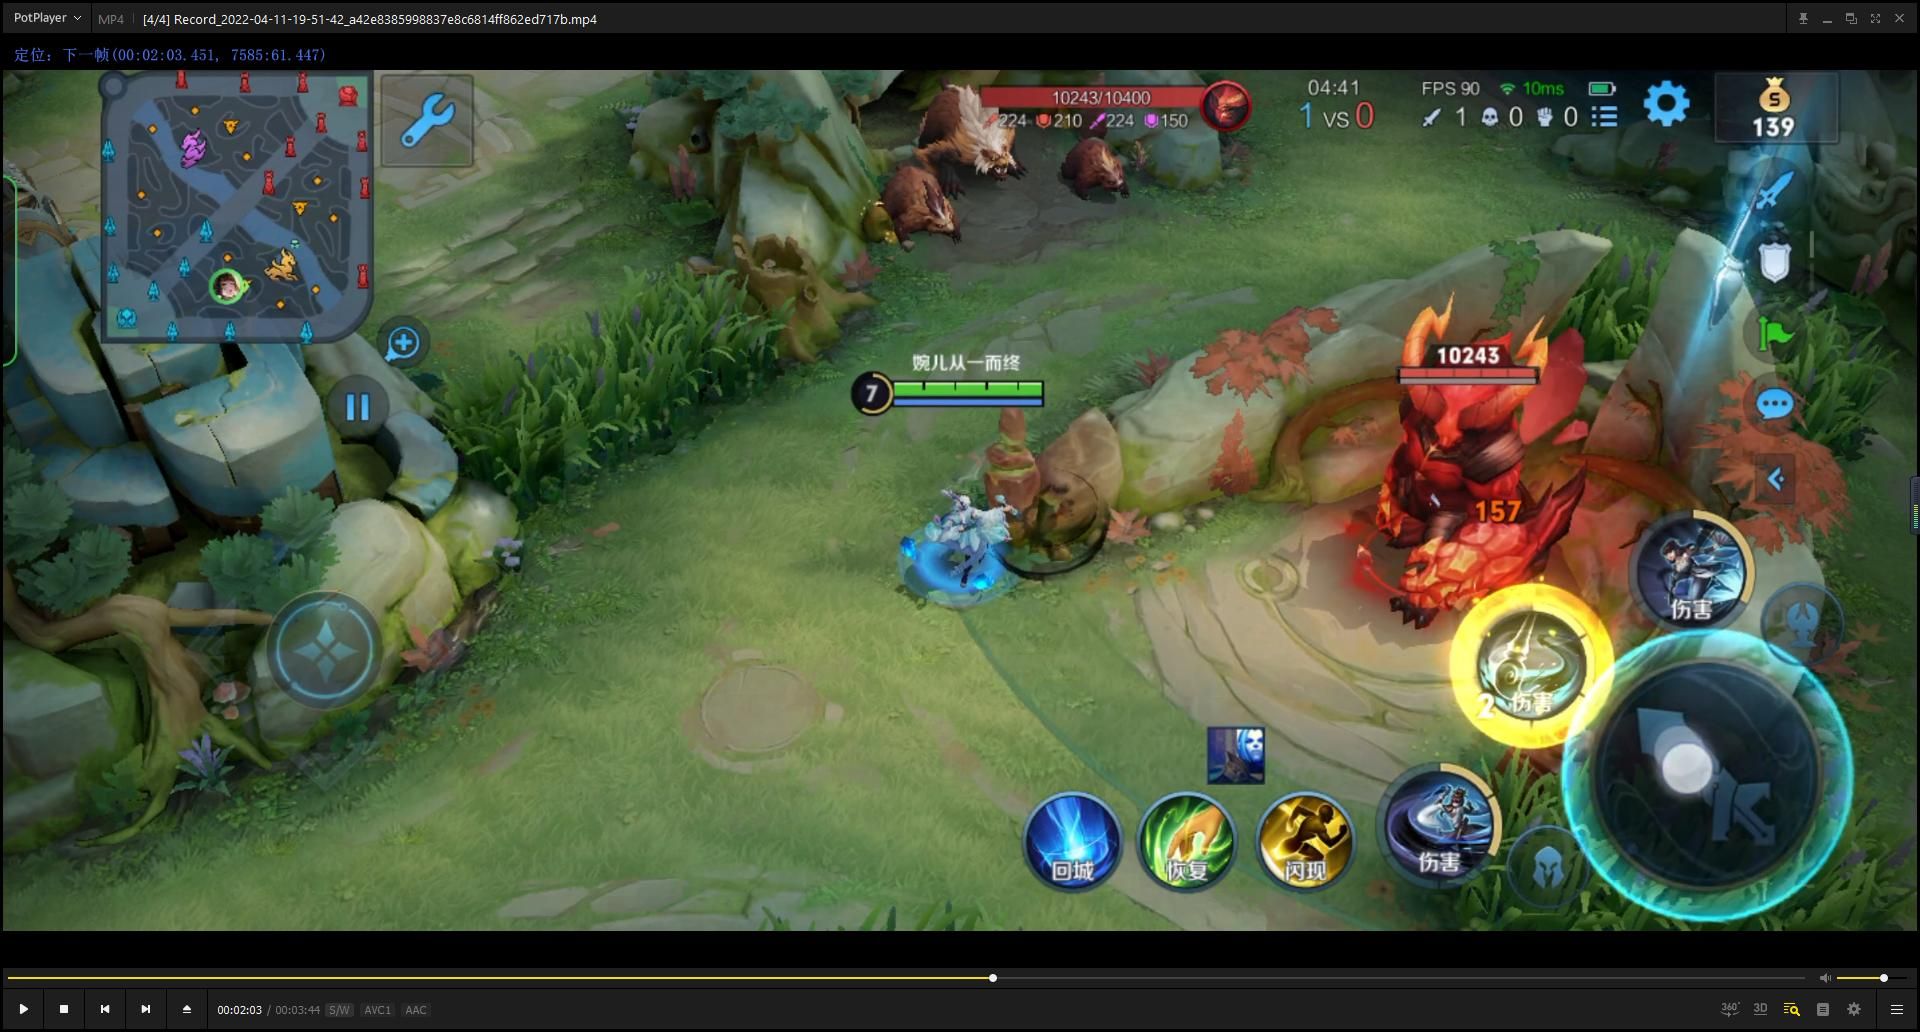Buff: (1327, 302, 1579, 623)
Hero: (881, 473, 1050, 611)
Pig: (867, 133, 958, 271), (909, 75, 1015, 187), (1036, 127, 1141, 219)
